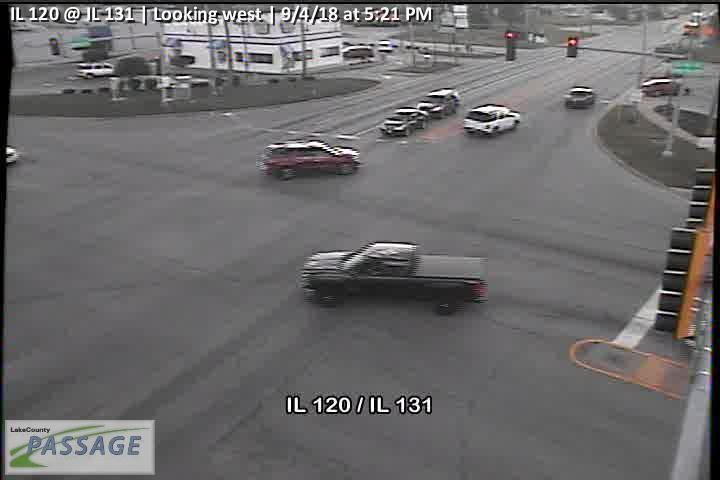SUV: (417, 86, 461, 120), (75, 60, 117, 79)
Sedan: (378, 107, 432, 139), (564, 85, 594, 110)
Truck: (300, 240, 488, 317), (260, 139, 360, 180), (461, 104, 522, 137)
